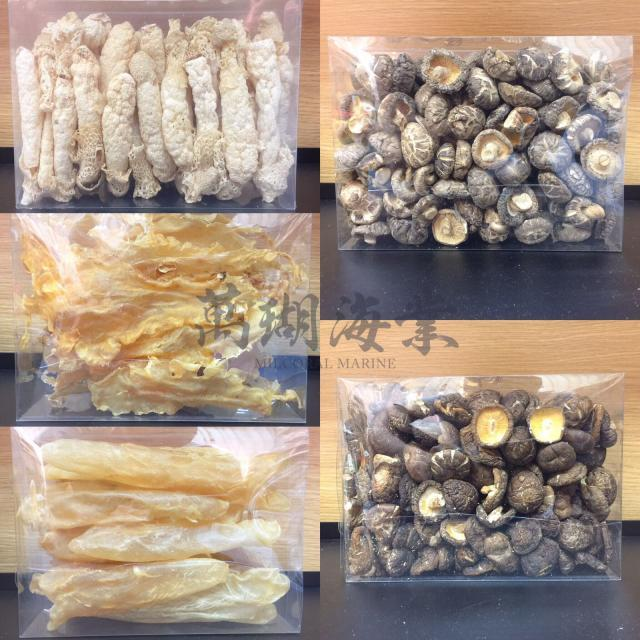Lentinus edodes: (339, 43, 619, 250), (346, 386, 616, 577)
